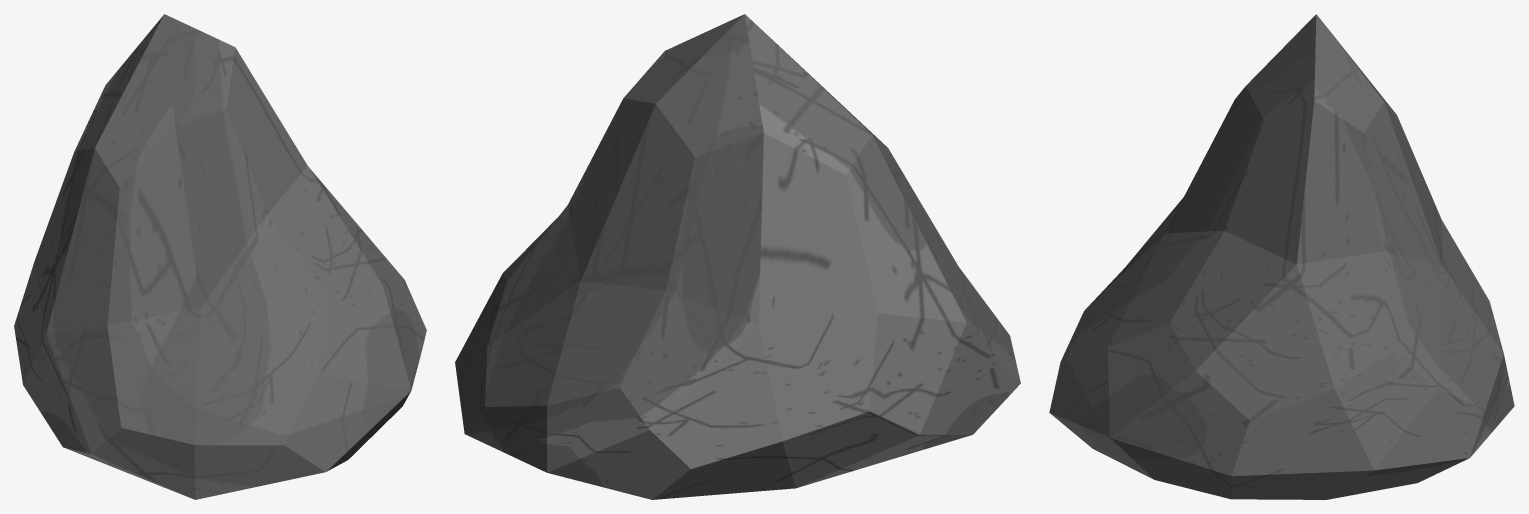
The model's file is Rock 2-1.fbx.
3 views of the same model, side by side, from view 1: azimuth 30°, elevation 25°; view 2: azimuth 150°, elevation 25°; view 3: azimuth 270°, elevation 25° (orthographic). The views are drawn at different scales.
Parts seen in each view (by area): view 1: Icosphere; view 2: Icosphere; view 3: Icosphere.
Part boxes in pixels (x1,y1,x2,y2): Icosphere: [14, 14, 426, 499]; Icosphere: [455, 14, 1020, 499]; Icosphere: [1049, 14, 1514, 499].
Size of the model in its own units: 251 by 252 by 260.
